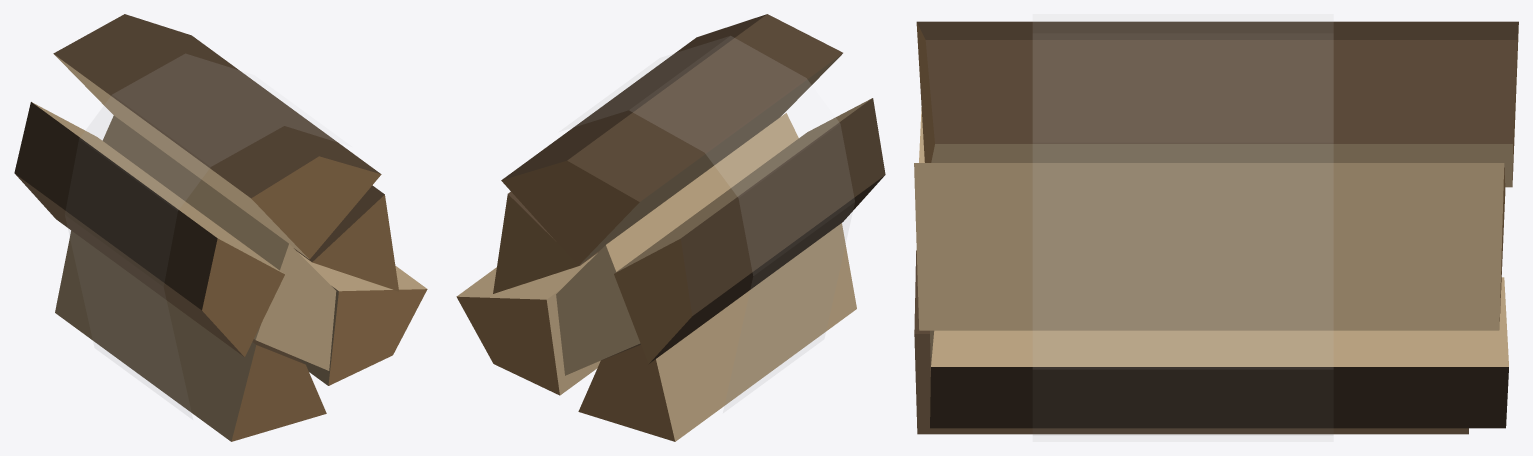
File: firewood-bundle-c.glb
The picture shows the model from 3 angles, left to right: view 1: azimuth 30°, elevation 25°; view 2: azimuth 150°, elevation 25°; view 3: azimuth 270°, elevation 25°; orthographic projection. The views are drawn at different scales.
Parts seen in each view (by area): view 1: firewood-bundle-c; view 2: firewood-bundle-c; view 3: firewood-bundle-c.
Part boxes in pixels (x1,y1,x2,y2): firewood-bundle-c: [14, 14, 427, 441]; firewood-bundle-c: [456, 14, 885, 441]; firewood-bundle-c: [914, 21, 1518, 434].
Size of the model in its own units: 0.2674 by 0.2963 by 0.3918.
